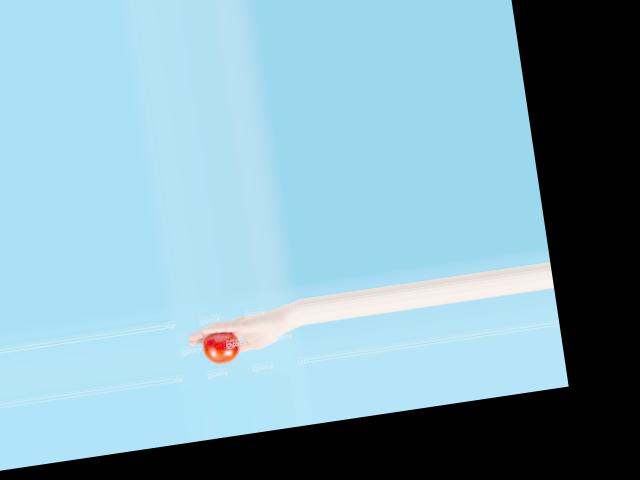tomato: (201, 329, 242, 365)
